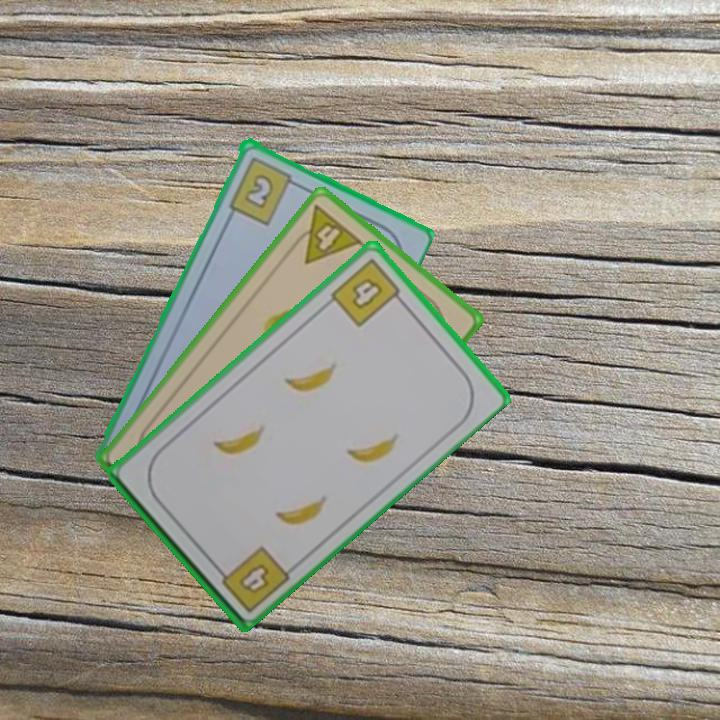2b: (225, 153, 302, 227)
4b: (327, 254, 408, 330), (211, 542, 292, 616)
4p: (285, 201, 366, 267)
